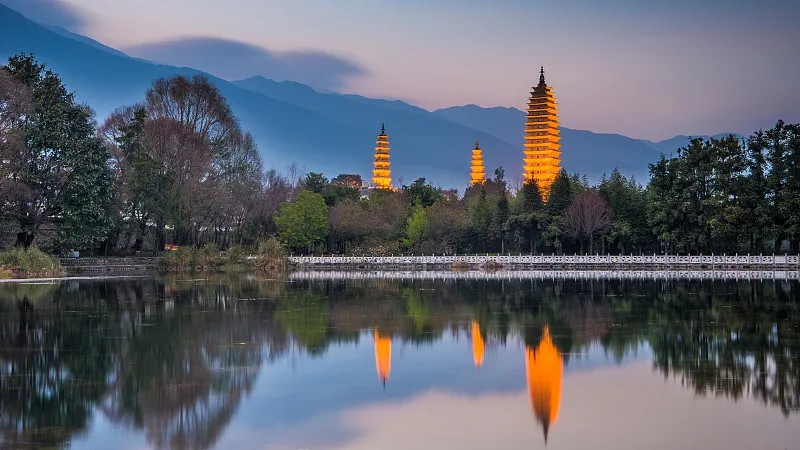ThreePagoda: (522, 66, 562, 205)
